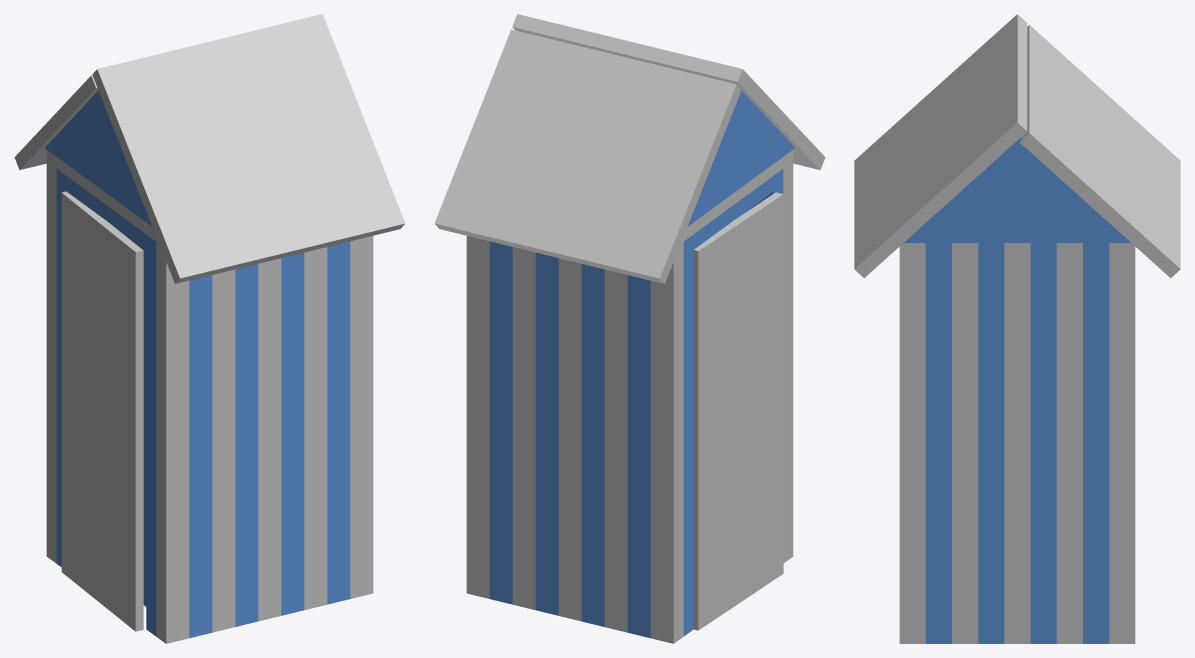
Rendered from beachCabin.fbx.
3 renders of one model, left to right at view 1: azimuth 30°, elevation 25°; view 2: azimuth 150°, elevation 25°; view 3: azimuth 270°, elevation 25°, orthographic.
Parts seen in each view (by area): view 1: beachCabin; view 2: beachCabin; view 3: beachCabin.
Boxes of the visible parts, bbox=[...] form: beachCabin: bbox=[14, 14, 405, 643]; beachCabin: bbox=[434, 14, 825, 643]; beachCabin: bbox=[854, 14, 1180, 643].
Bounding box in the file's own units: 1.18 × 1.5 × 2.66.
